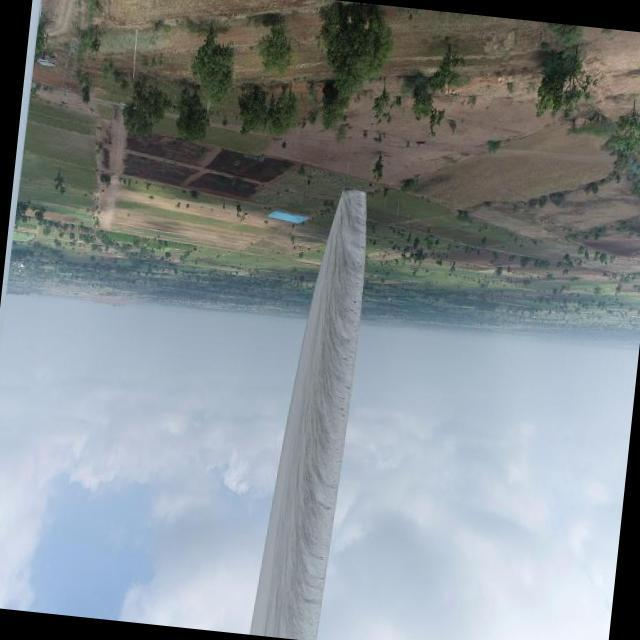Dirt: (247, 189, 365, 640)
